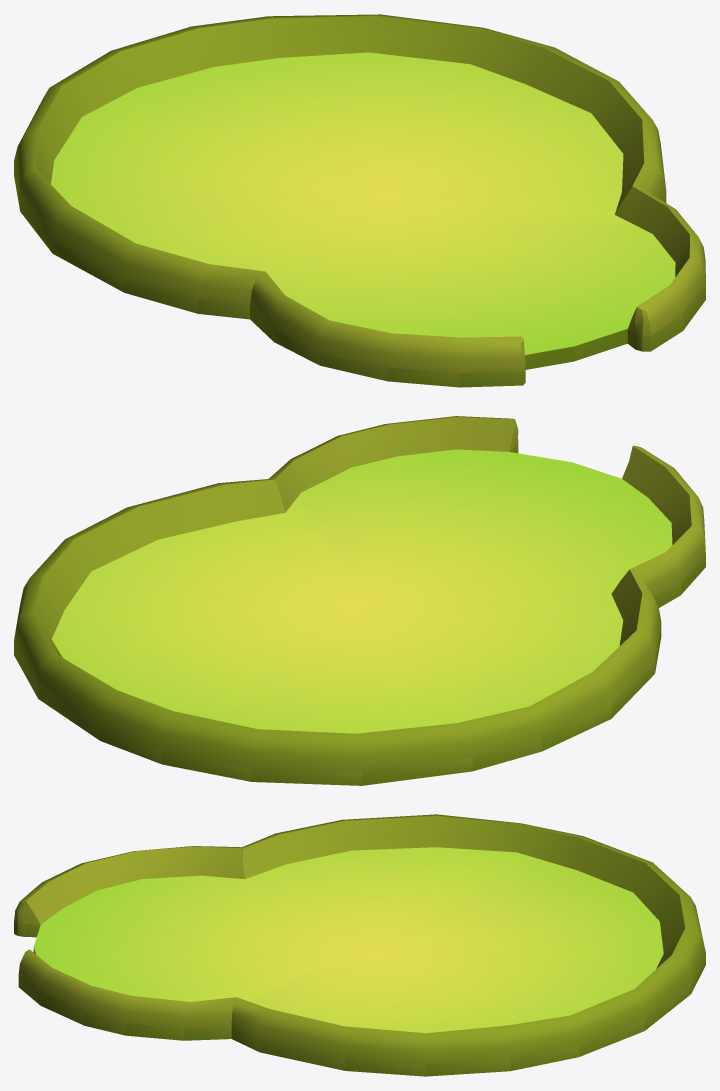
Rendered from SM_Y_01_Yard_04.fbx.
The picture shows the model from 3 angles, top to bottom: view 1: azimuth 30°, elevation 25°; view 2: azimuth 150°, elevation 25°; view 3: azimuth 270°, elevation 25°; orthographic projection. The views are drawn at different scales.
Visible parts, largest first — view 1: SM_Y_01_Yard_04; view 2: SM_Y_01_Yard_04; view 3: SM_Y_01_Yard_04.
Part boxes in pixels (bbox=[...]): SM_Y_01_Yard_04: bbox=[14, 14, 705, 387]; SM_Y_01_Yard_04: bbox=[14, 416, 705, 785]; SM_Y_01_Yard_04: bbox=[14, 814, 705, 1076].
Bounding box in the file's own units: 3007 × 226 × 3797.
